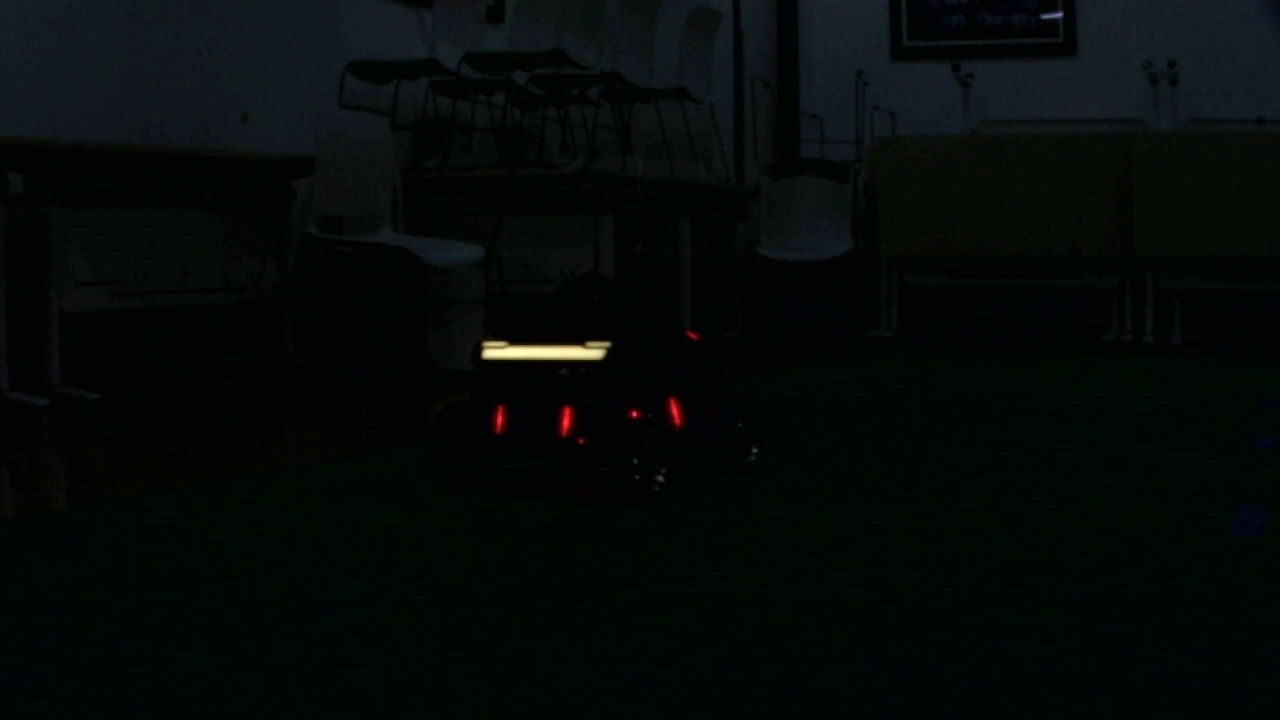lamp: (663, 397, 684, 430), (557, 403, 574, 441), (493, 401, 505, 438)
pair1: (494, 406, 574, 434)
